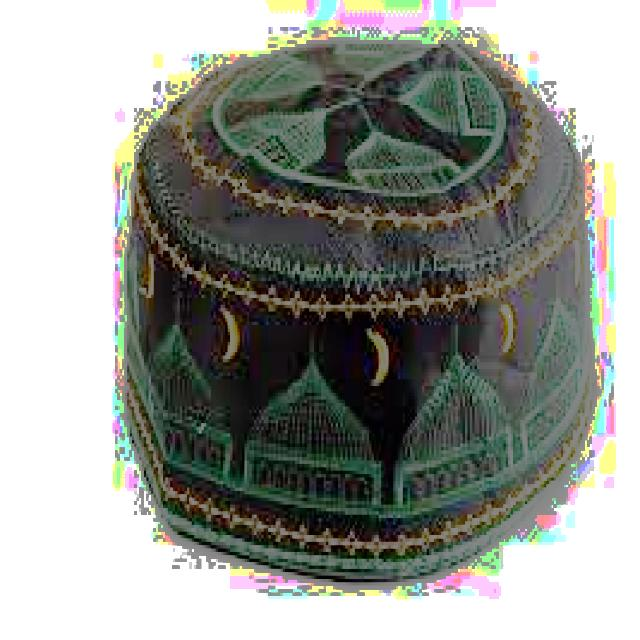TOPI: (103, 20, 599, 582)
